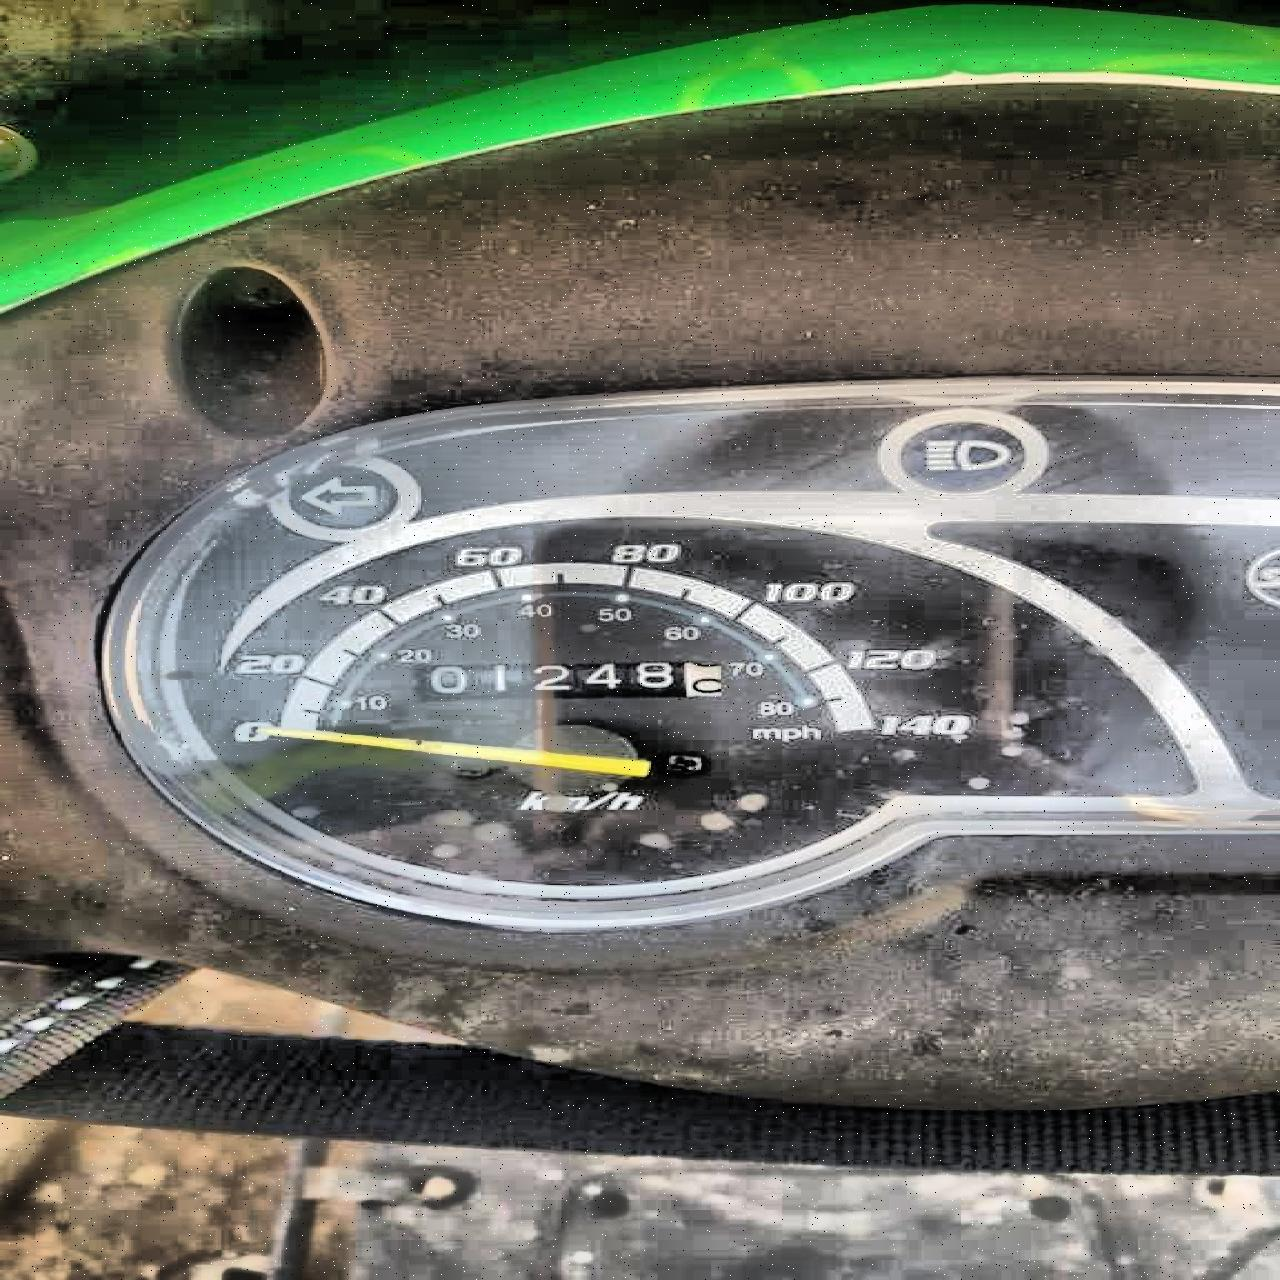0: (427, 662, 469, 695)
1: (484, 660, 516, 696)
2: (526, 662, 571, 689)
4: (585, 659, 622, 690)
8: (631, 660, 673, 689)
9: (685, 674, 724, 700)
odometer: (402, 658, 729, 703)
